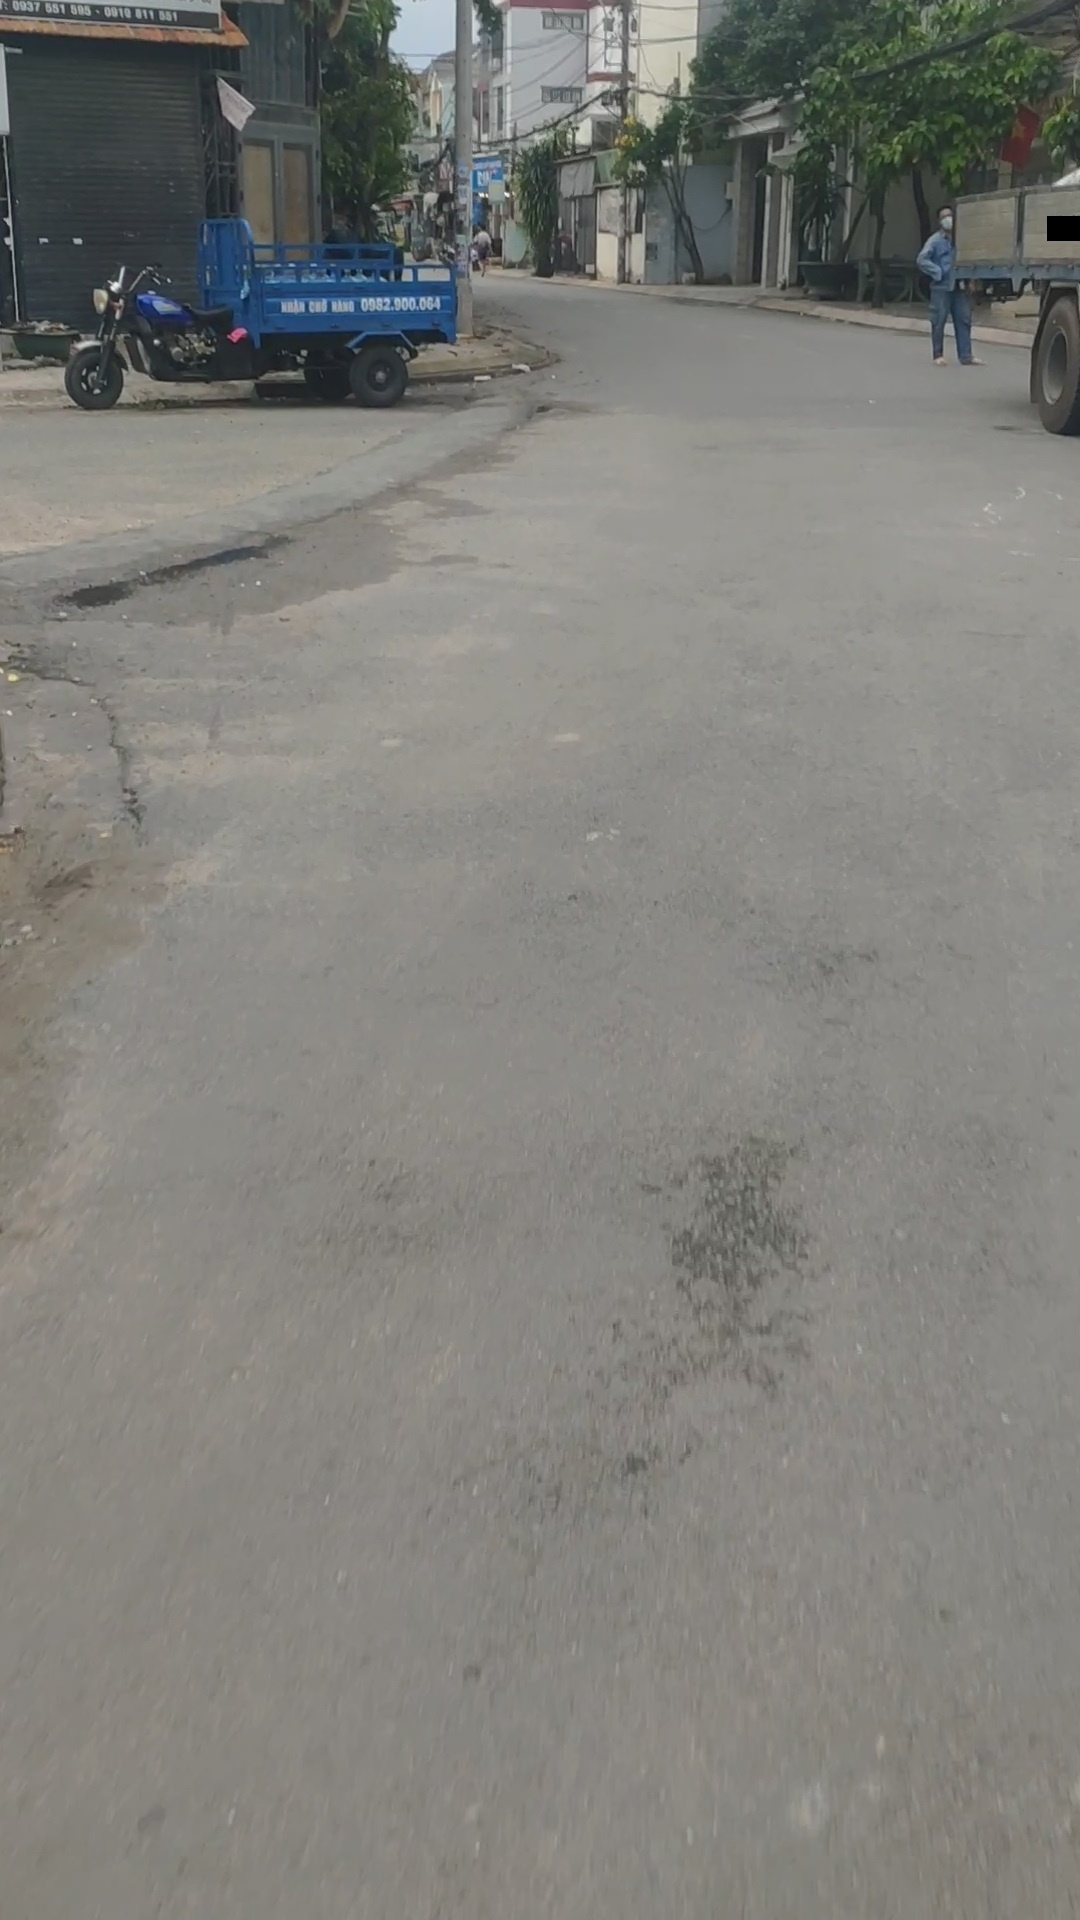hole: (1, 642, 157, 903), (530, 398, 580, 421)
